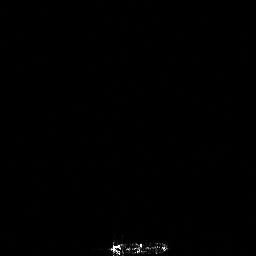ship: (106, 239, 171, 256)
